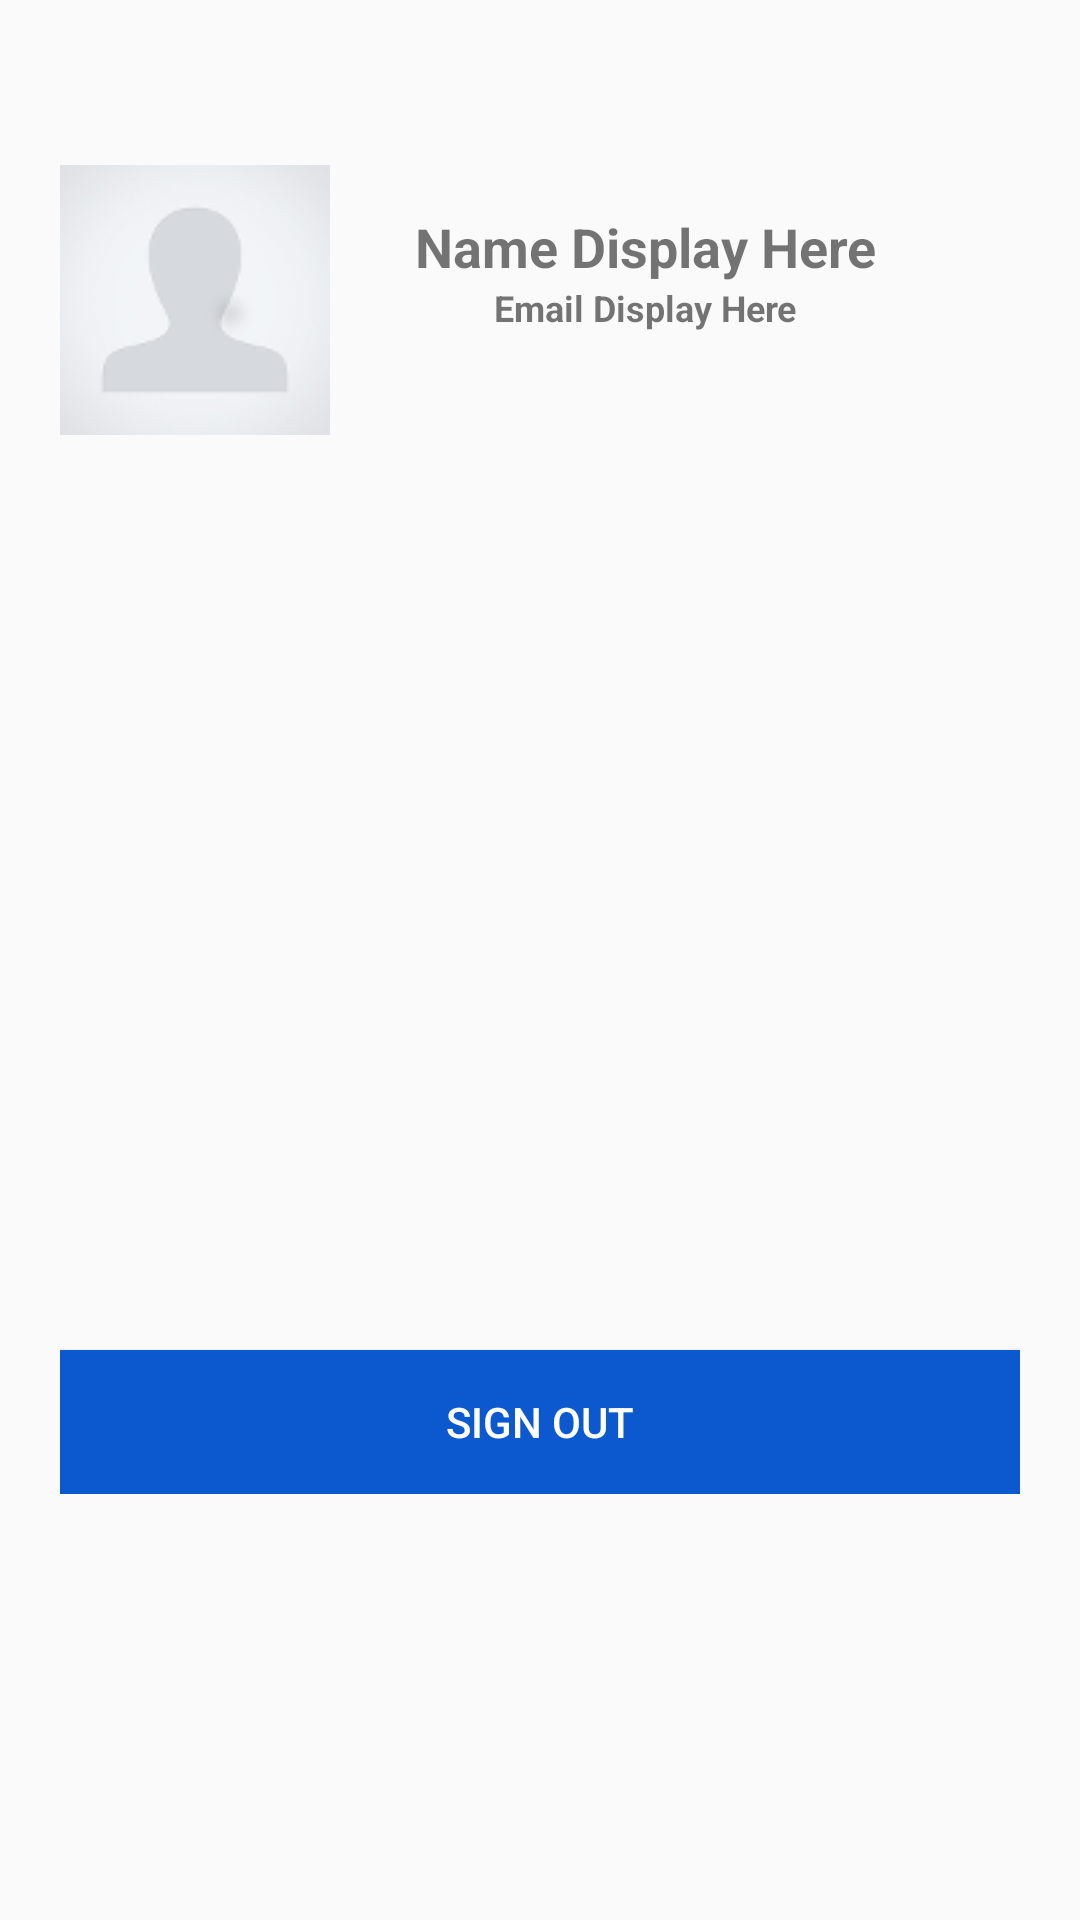

Screen size 1080w x 1920h. Icon name, then its box in pixels as (x1, y1, x2, y2):
user: (60, 165, 330, 435)
